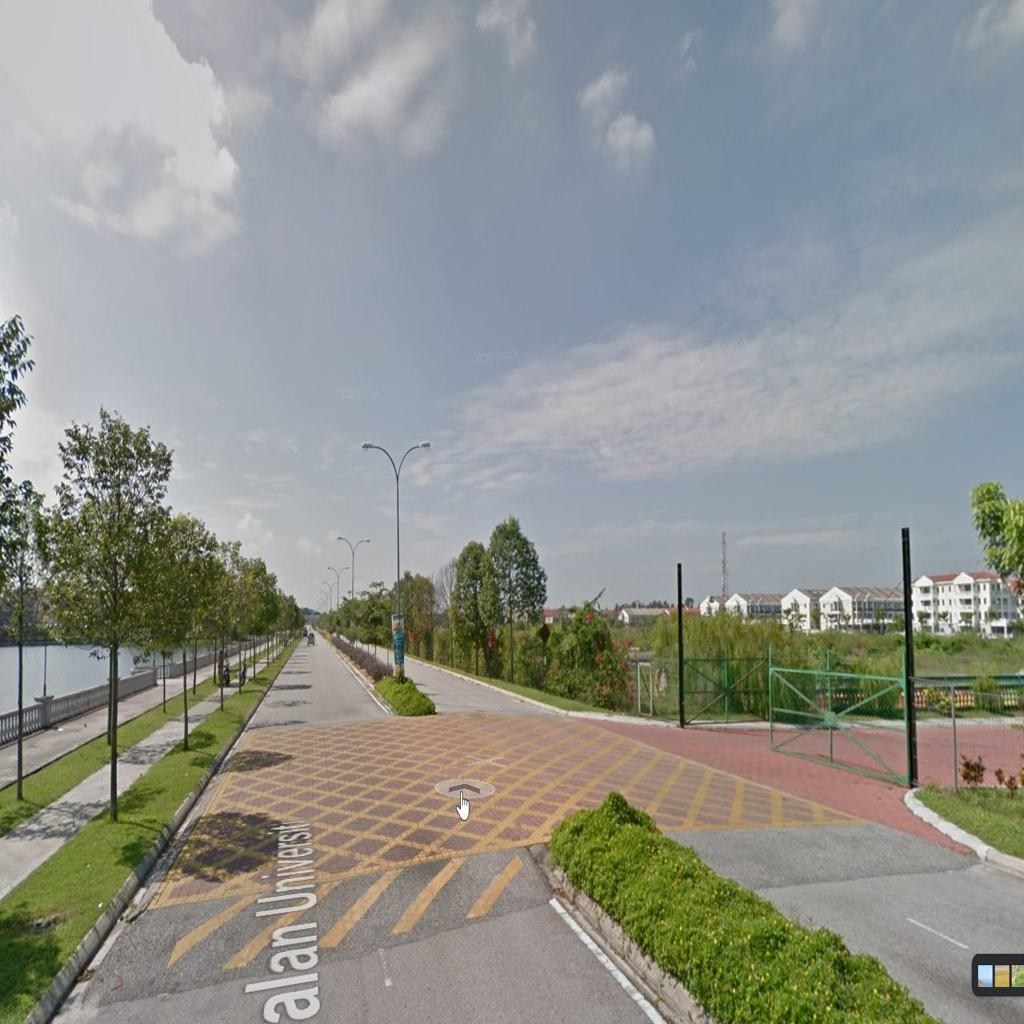Junction: (609, 666, 937, 838)
